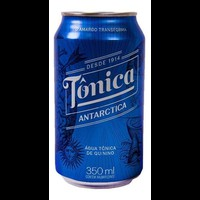tonica: (51, 7, 145, 190)
